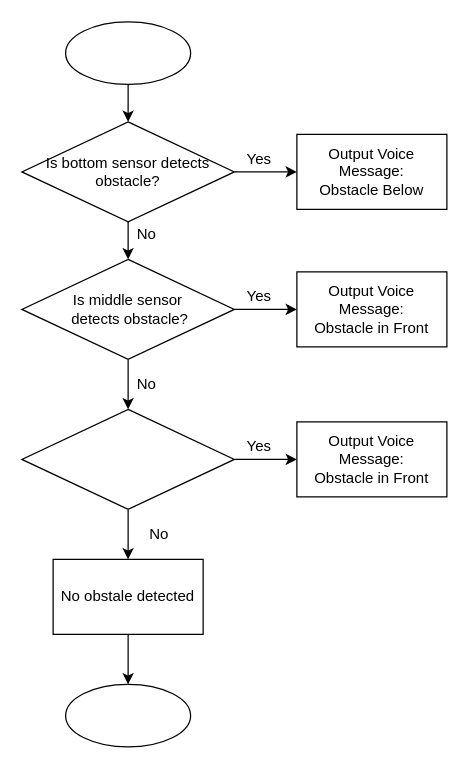
This 469x769 diagram has some shape labels left out. The shapes that lost their labels are listed below. From the top down, each one's box as (x1, y1, x2, y2) in pixels, then its label:
(64, 21, 191, 84): Start
(21, 408, 234, 509): Is top sensor detects obstacle?
(64, 683, 191, 747): Return
